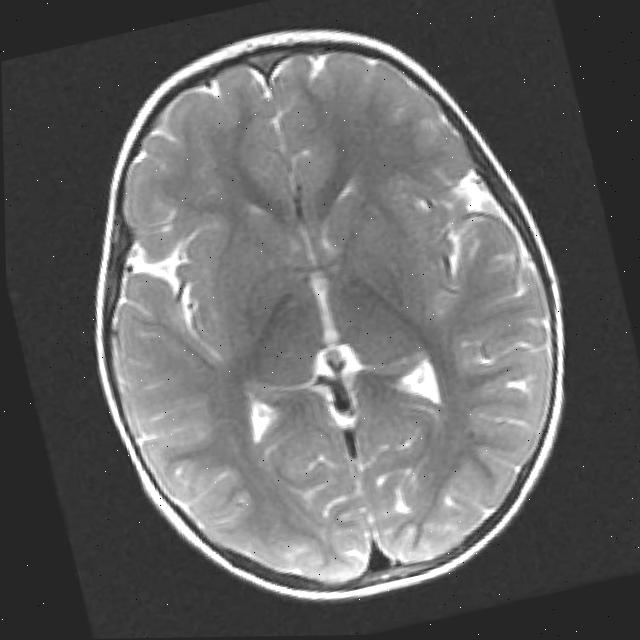NoTumor: (16, 0, 625, 640)
